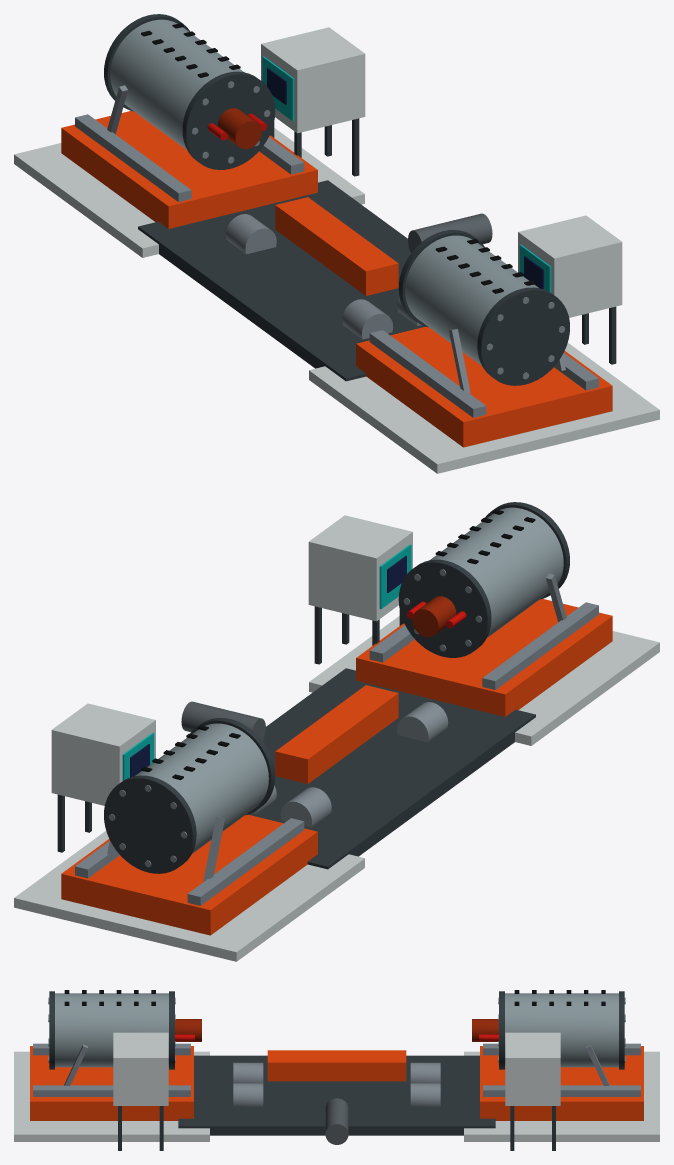
Rendered from opening_tool_station.dae.
3 renders of one model, top to bottom at view 1: azimuth 30°, elevation 25°; view 2: azimuth 150°, elevation 25°; view 3: azimuth 270°, elevation 25°, orthographic. The views are drawn at different scales.
Parts seen in each view (by area): view 1: opening_tool_station; view 2: opening_tool_station; view 3: opening_tool_station.
Part boxes in pixels (x1,y1,x2,y2): opening_tool_station: (14, 14, 659, 473); opening_tool_station: (14, 502, 659, 961); opening_tool_station: (14, 990, 659, 1150).
Bounding box in the file's own units: 1.98 × 5.6 × 1.01.
